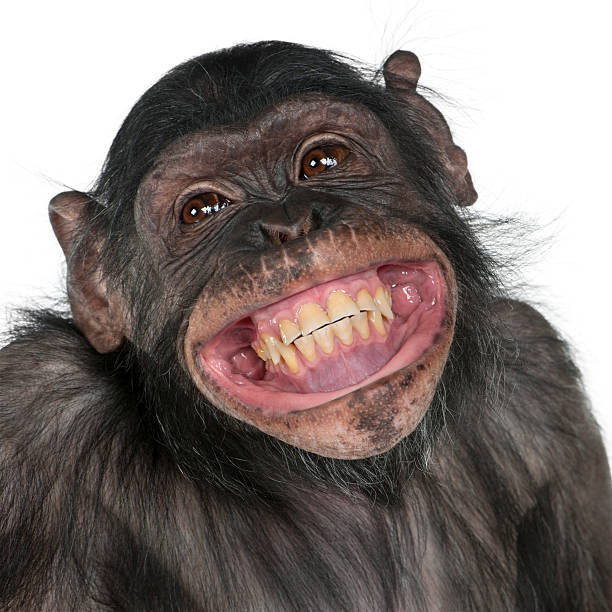chimpanzee: (20, 5, 538, 494)
